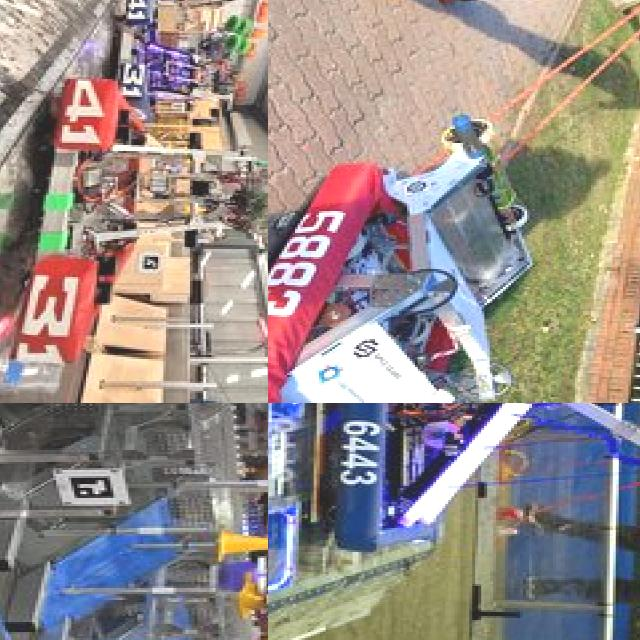FRC-Robots: (268, 0, 640, 403), (0, 0, 268, 403), (268, 403, 640, 640), (103, 0, 249, 142), (0, 571, 268, 640)
